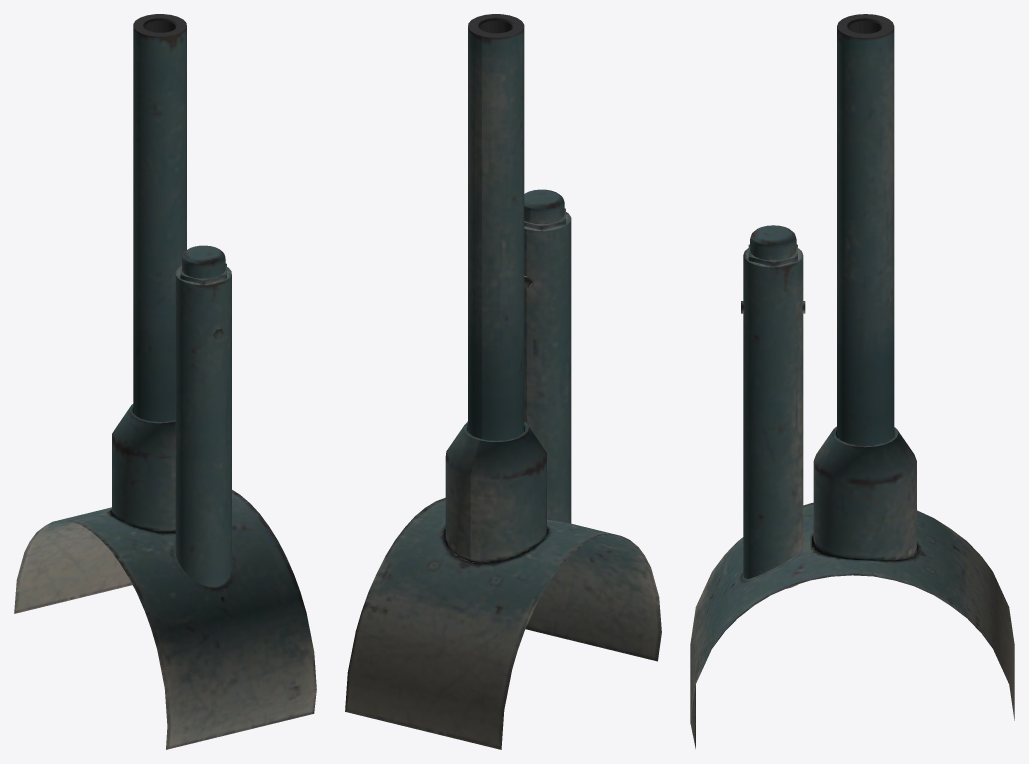
The model's file is Gun_01.glb.
3 renders of one model, left to right at view 1: azimuth 30°, elevation 25°; view 2: azimuth 150°, elevation 25°; view 3: azimuth 270°, elevation 25°, orthographic. The views are drawn at different scales.
Parts seen in each view (by area): view 1: set_0_group_0; view 2: set_0_group_0; view 3: set_0_group_0.
Part boxes in pixels (left/top/right/bottom): set_0_group_0: left=14, top=14, right=316, bottom=749; set_0_group_0: left=345, top=14, right=661, bottom=749; set_0_group_0: left=690, top=14, right=1014, bottom=748.
Bounding box in the file's own units: 0.4053 × 1.68 × 0.7196.
Materials: 1 (1 with a texture image).
